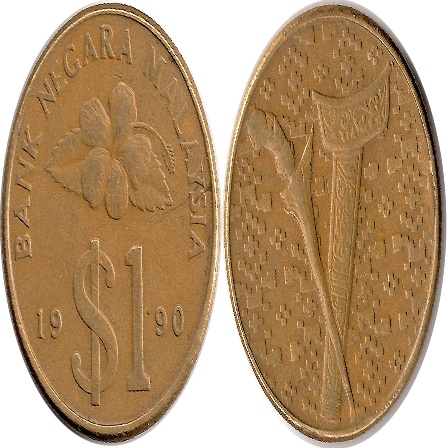1r: (0, 1, 222, 448), (223, 0, 444, 446)
